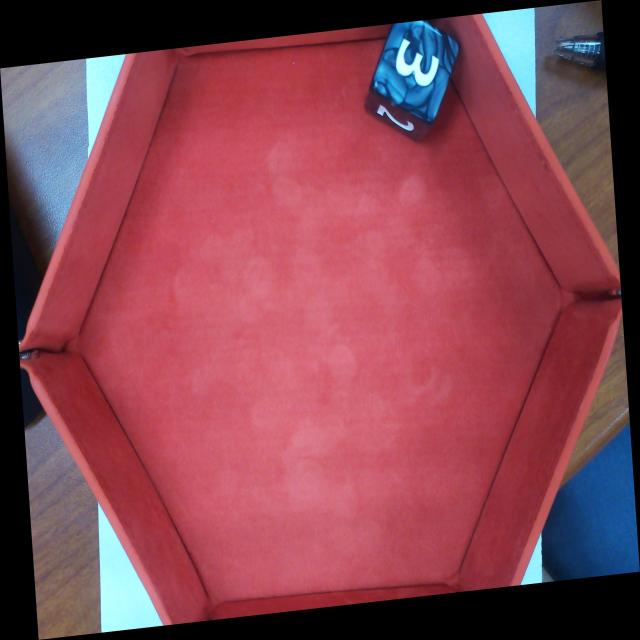dice: (376, 22, 459, 121)
